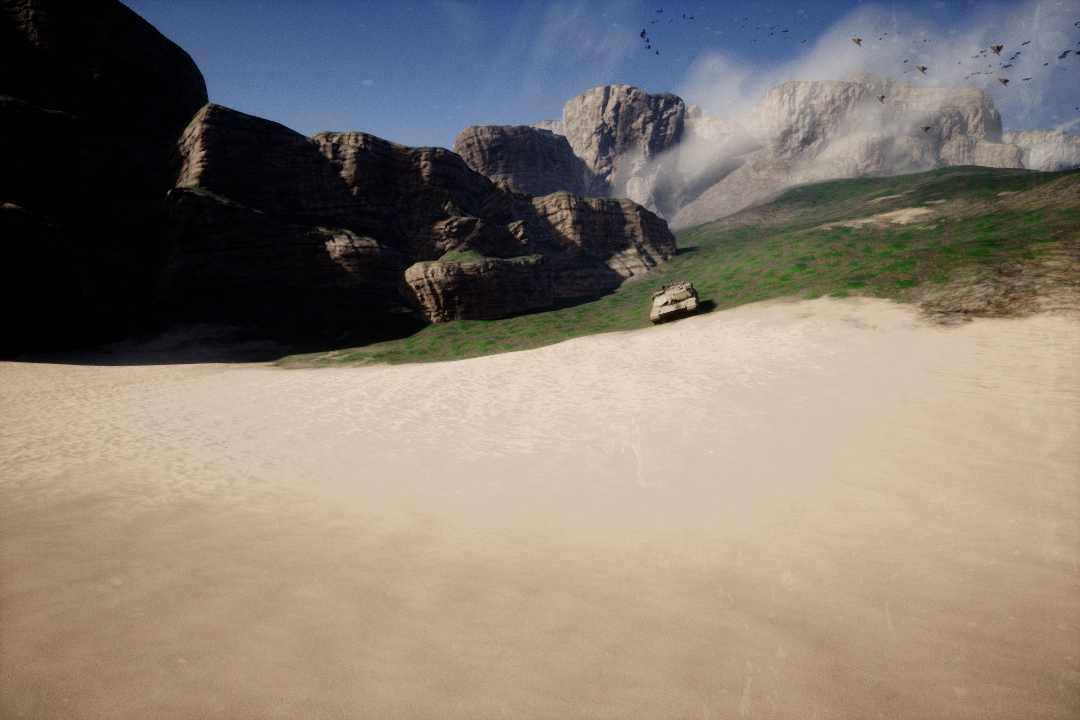tank: (644, 282, 702, 324)
